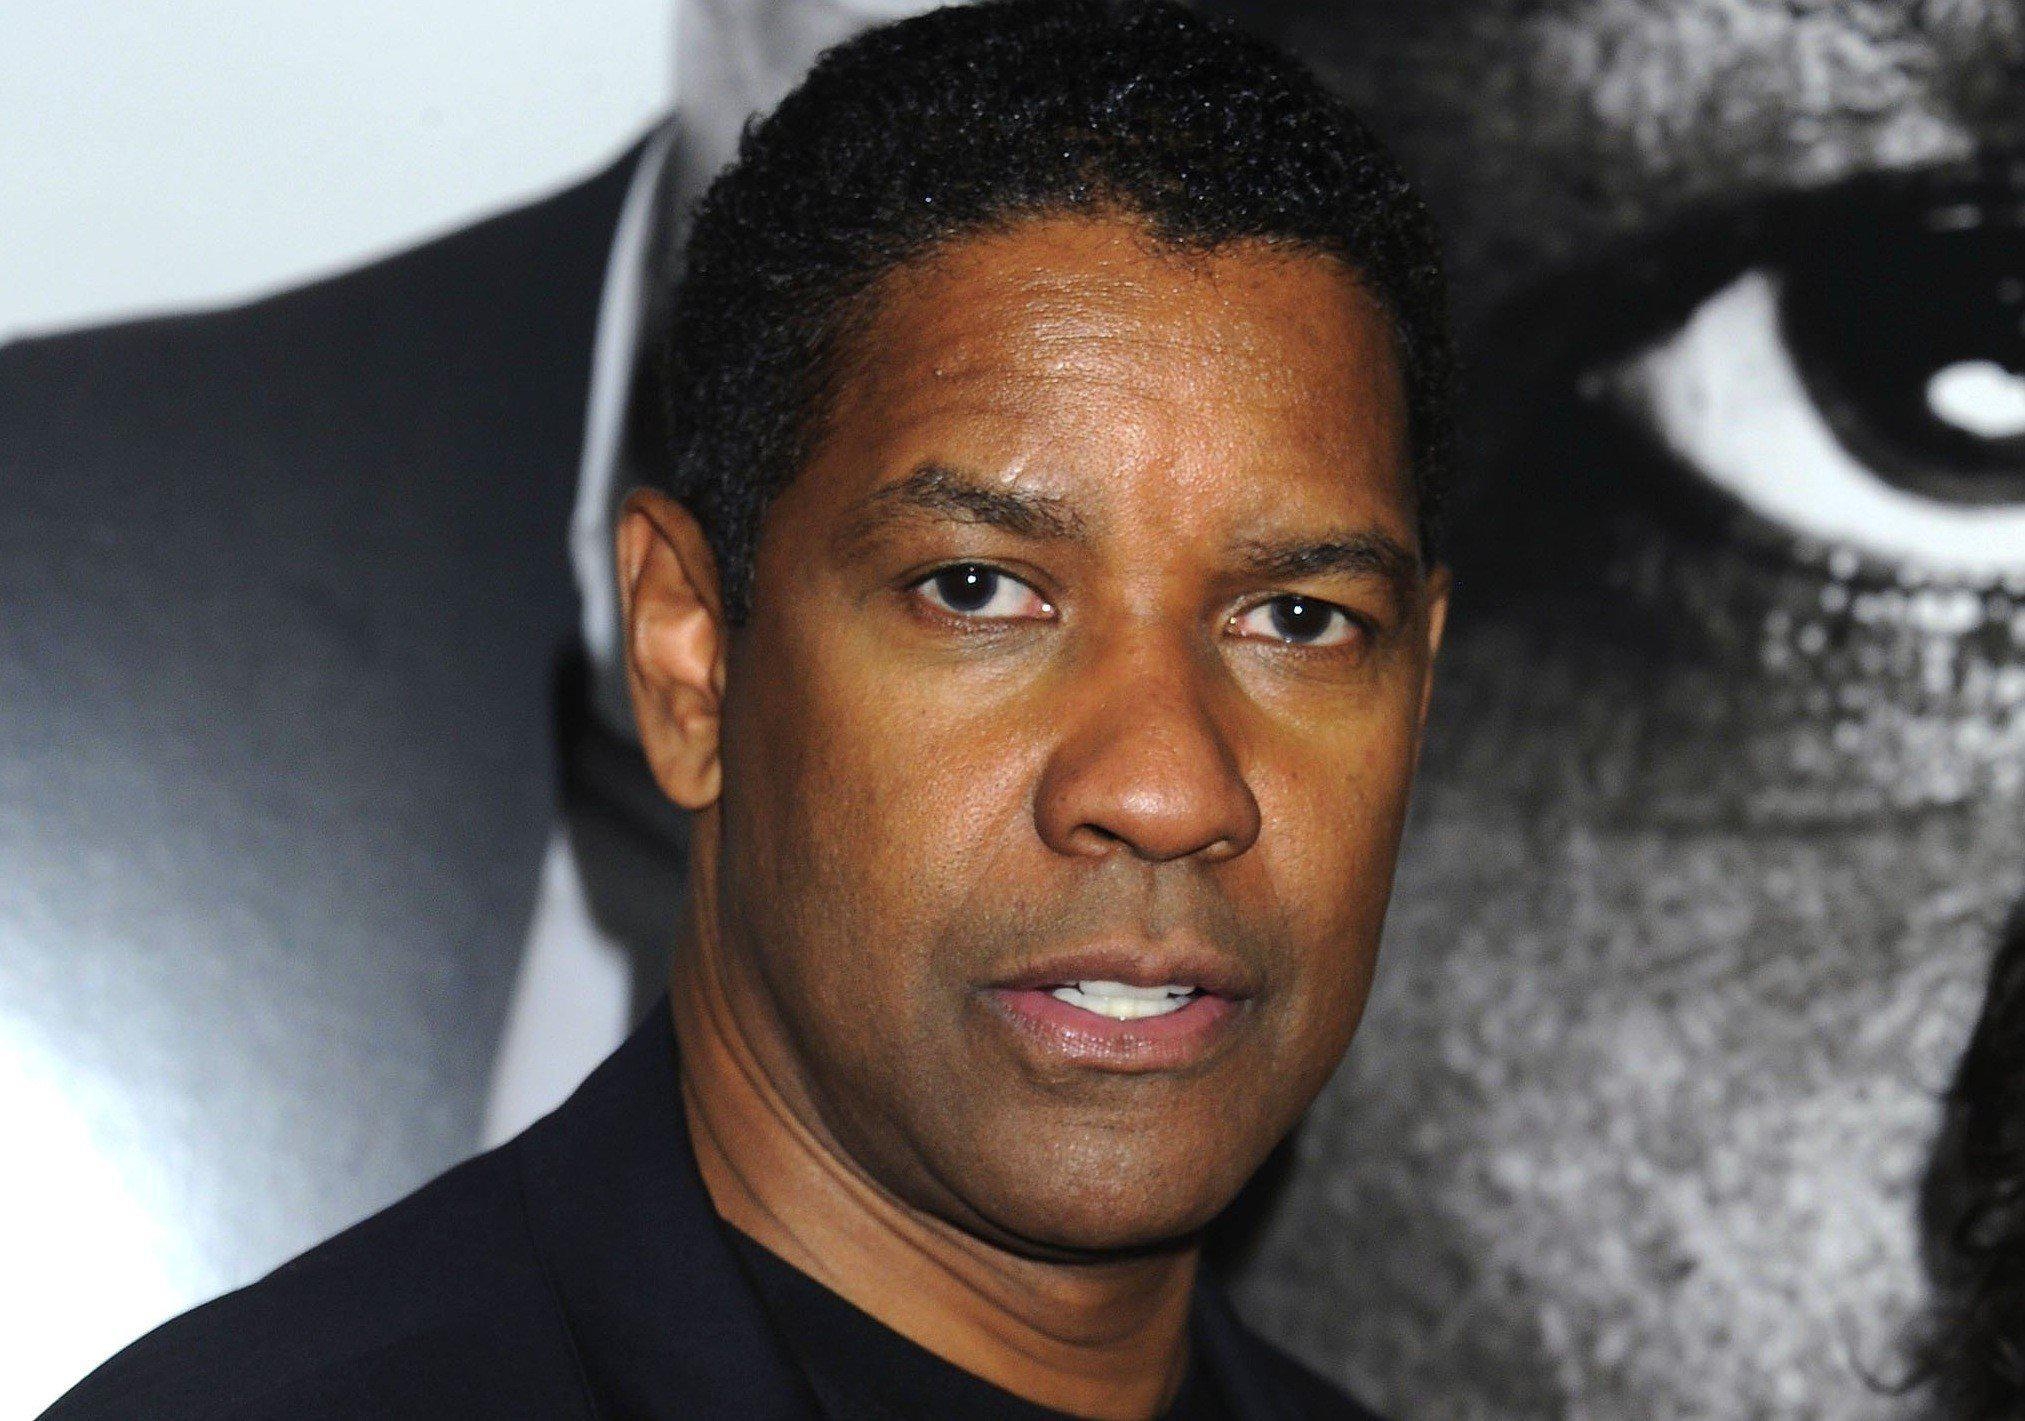Sober: (791, 231, 1388, 1216)
